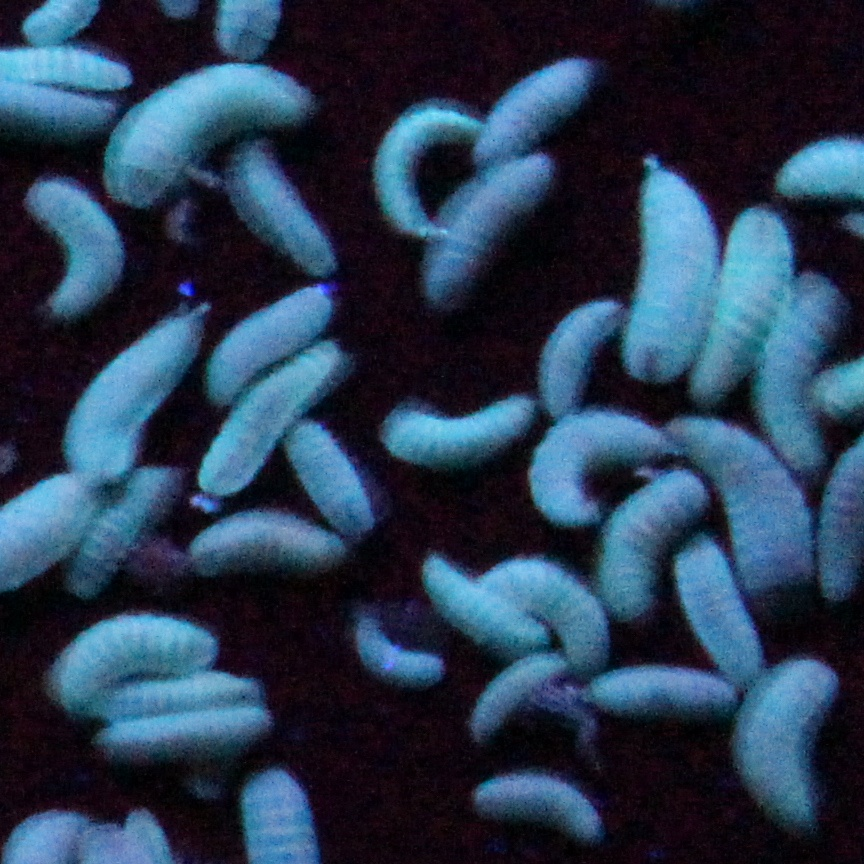larve: (107, 56, 316, 196), (184, 346, 336, 501), (679, 408, 809, 581), (66, 317, 198, 487), (632, 156, 720, 381), (709, 190, 798, 412), (366, 94, 482, 246), (45, 612, 229, 703), (743, 656, 839, 826), (766, 260, 841, 476), (204, 285, 327, 410), (23, 174, 125, 324), (432, 160, 545, 287), (529, 417, 664, 521), (68, 467, 175, 596), (602, 471, 698, 612), (673, 540, 768, 681), (479, 49, 604, 156), (486, 556, 607, 665), (459, 769, 618, 842), (427, 558, 545, 651), (241, 156, 334, 274), (291, 424, 384, 533), (389, 392, 536, 460), (536, 301, 616, 419), (582, 656, 739, 715), (177, 512, 343, 562), (100, 706, 282, 746), (470, 658, 564, 733), (104, 671, 259, 715), (359, 610, 443, 685)
